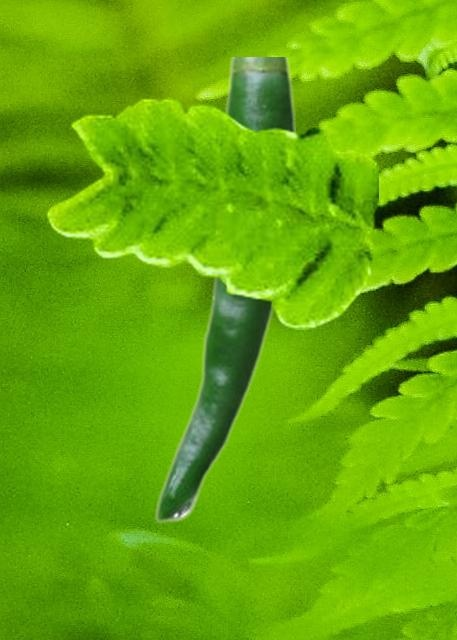green_chili: (153, 57, 294, 522)
